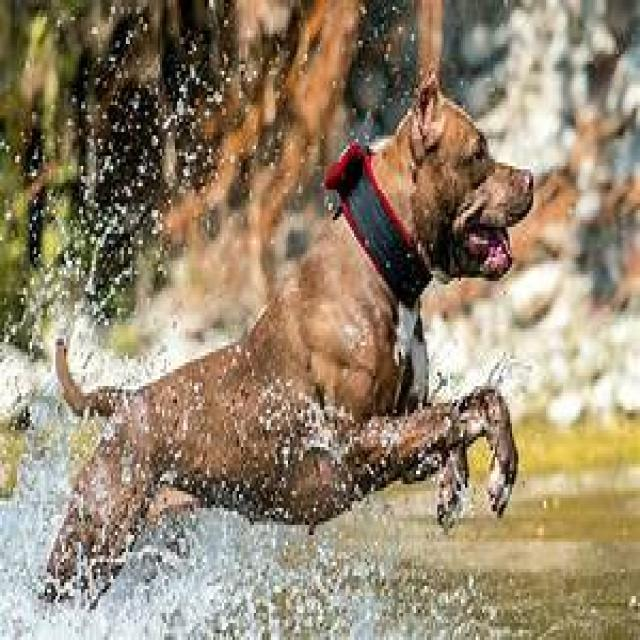dog: (46, 218, 518, 596), (334, 87, 531, 305)
